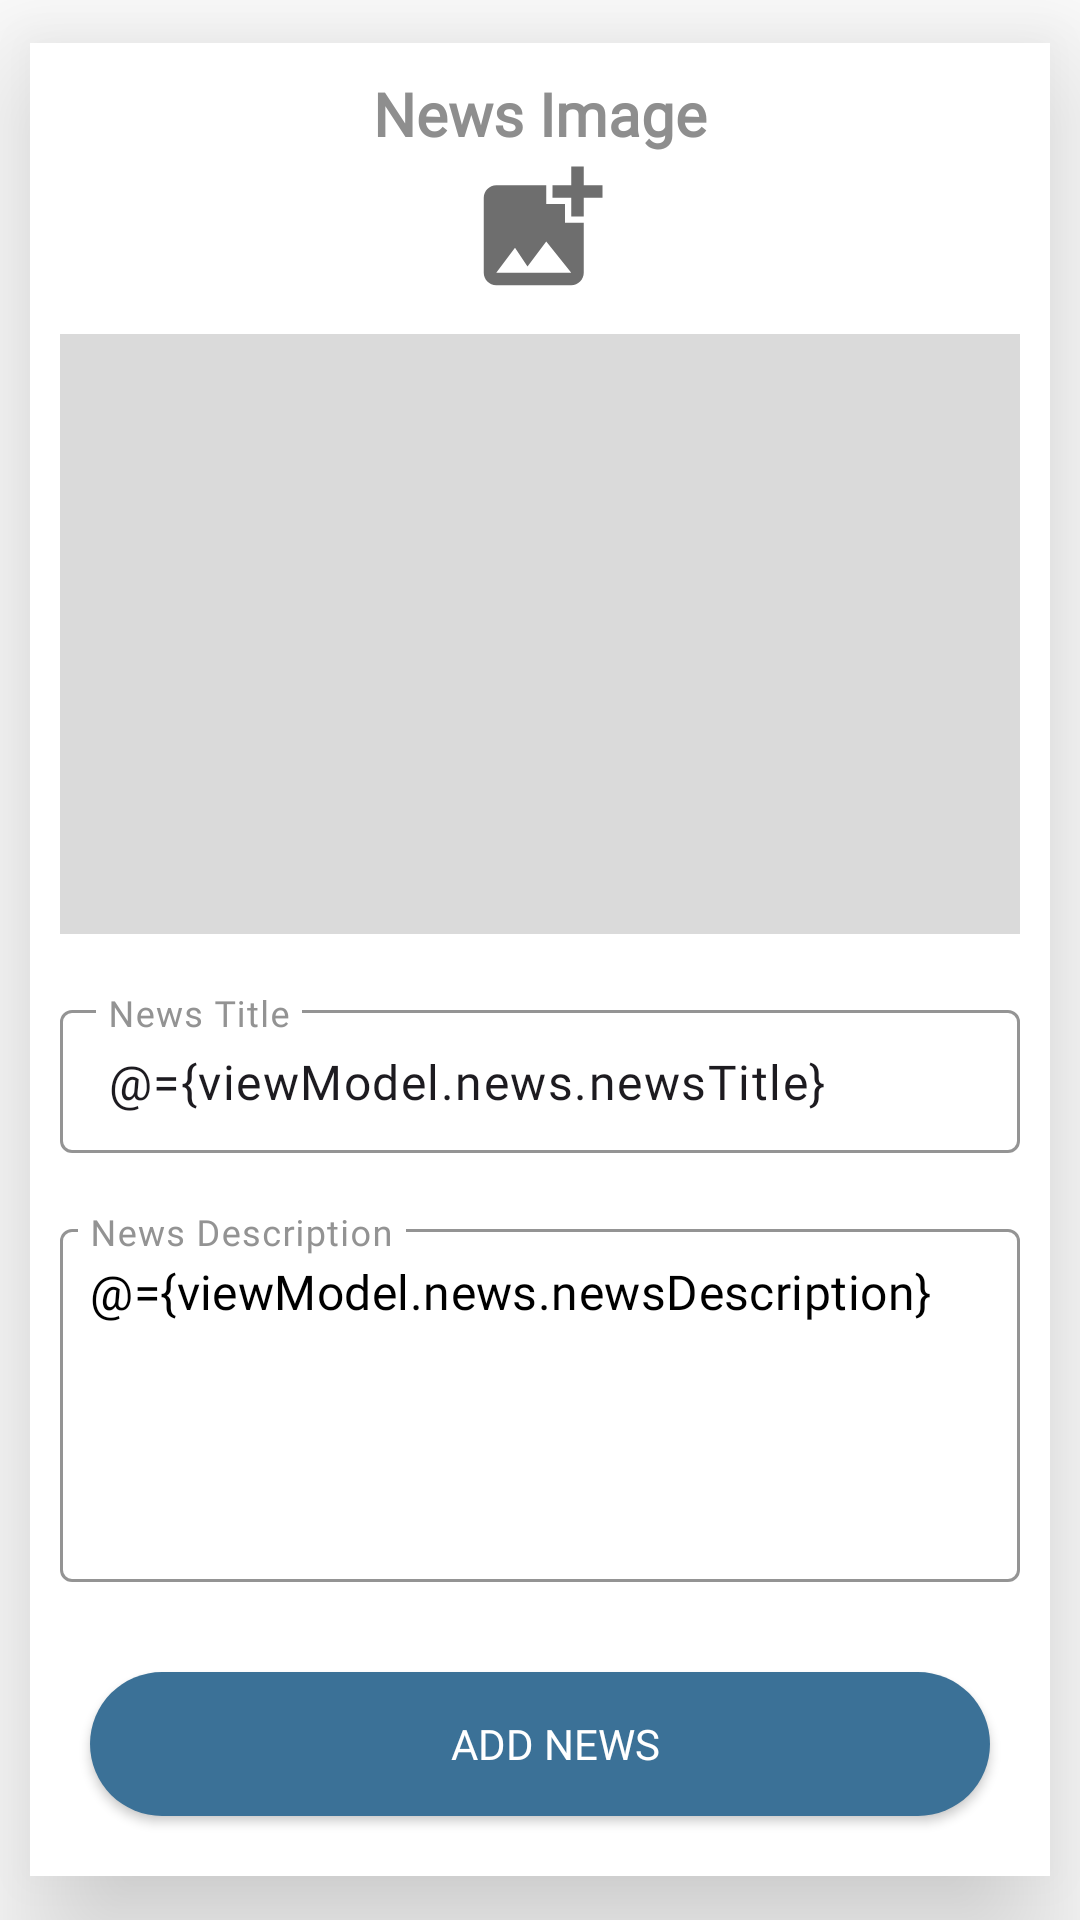

Named icons in this screenshot (1080x1920) and their centers, point (x, y):
add photo alternate: point (543, 226)
